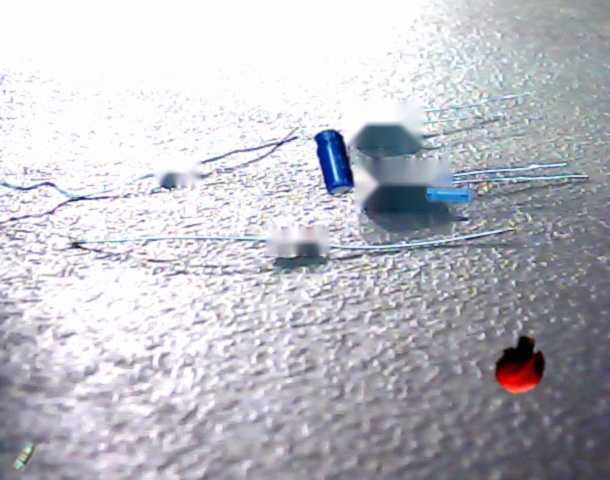capacitor: (495, 336, 545, 395), (314, 129, 354, 196), (426, 187, 475, 203)
resistor: (13, 442, 38, 472)
